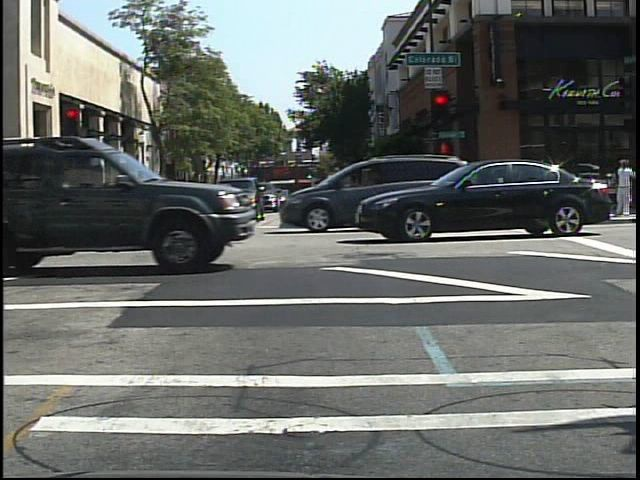person: (614, 154, 637, 218), (163, 180, 182, 220)
